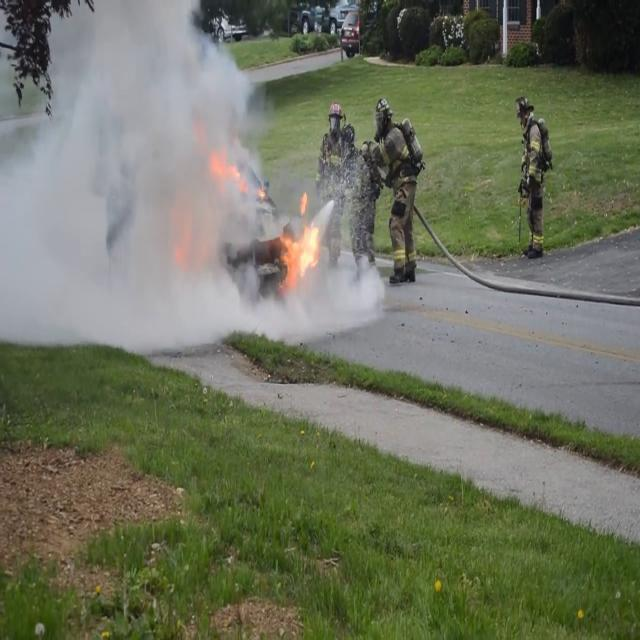Fire: (277, 195, 323, 286)
Smoke: (0, 1, 273, 360)
